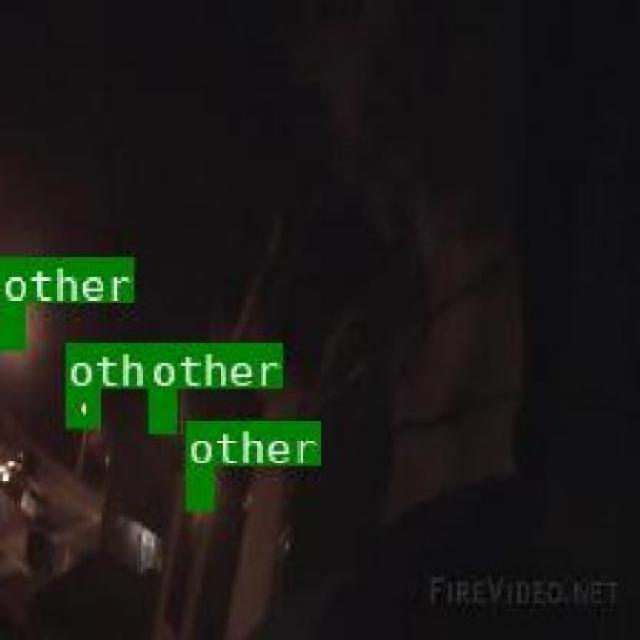Smoke: (146, 388, 174, 430), (64, 388, 96, 424), (184, 463, 210, 506), (0, 301, 23, 348)
